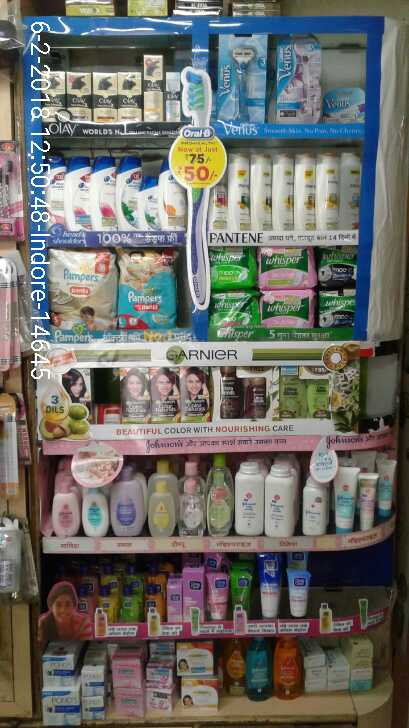venus: (217, 34, 267, 122), (276, 39, 322, 123), (322, 87, 366, 123)
